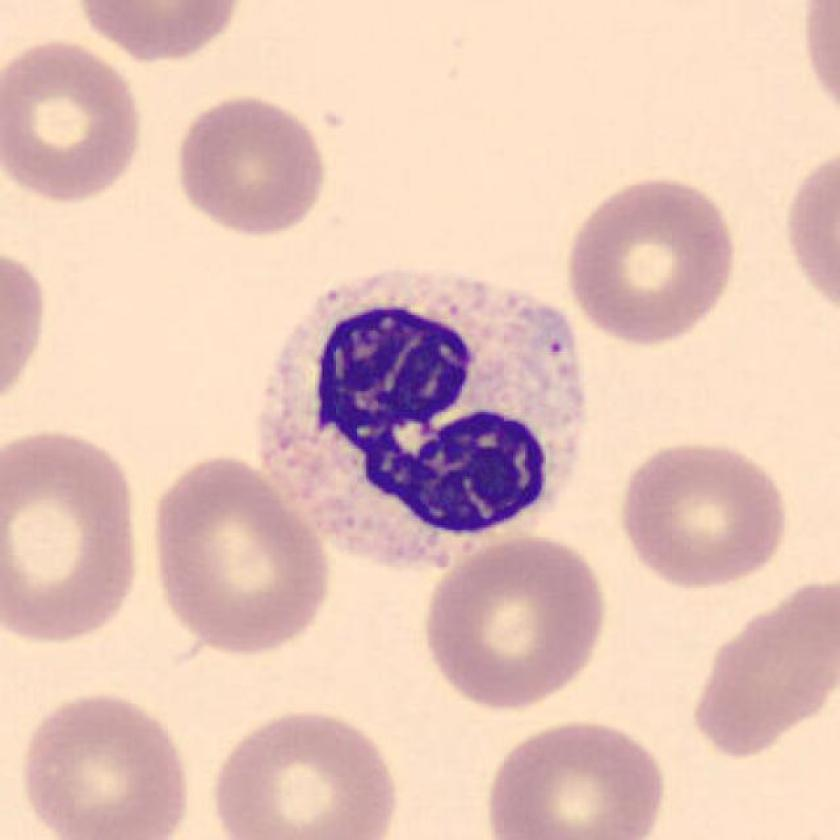neutrophil: (257, 269, 588, 573)
